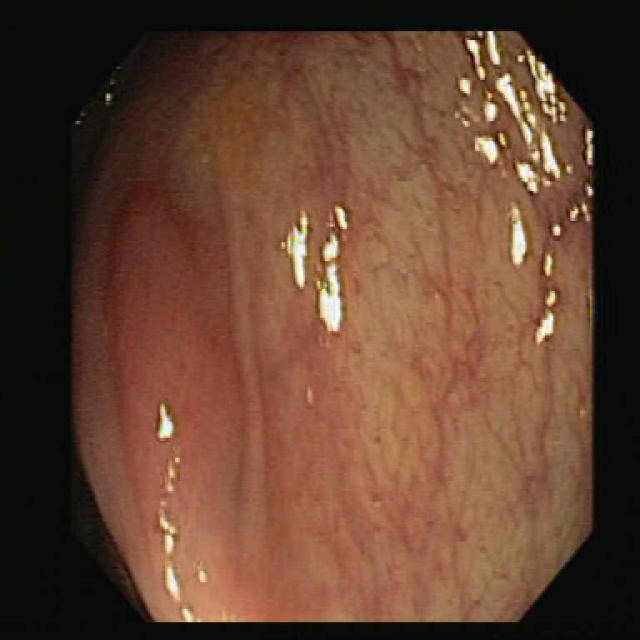tumor: (107, 196, 243, 529)
